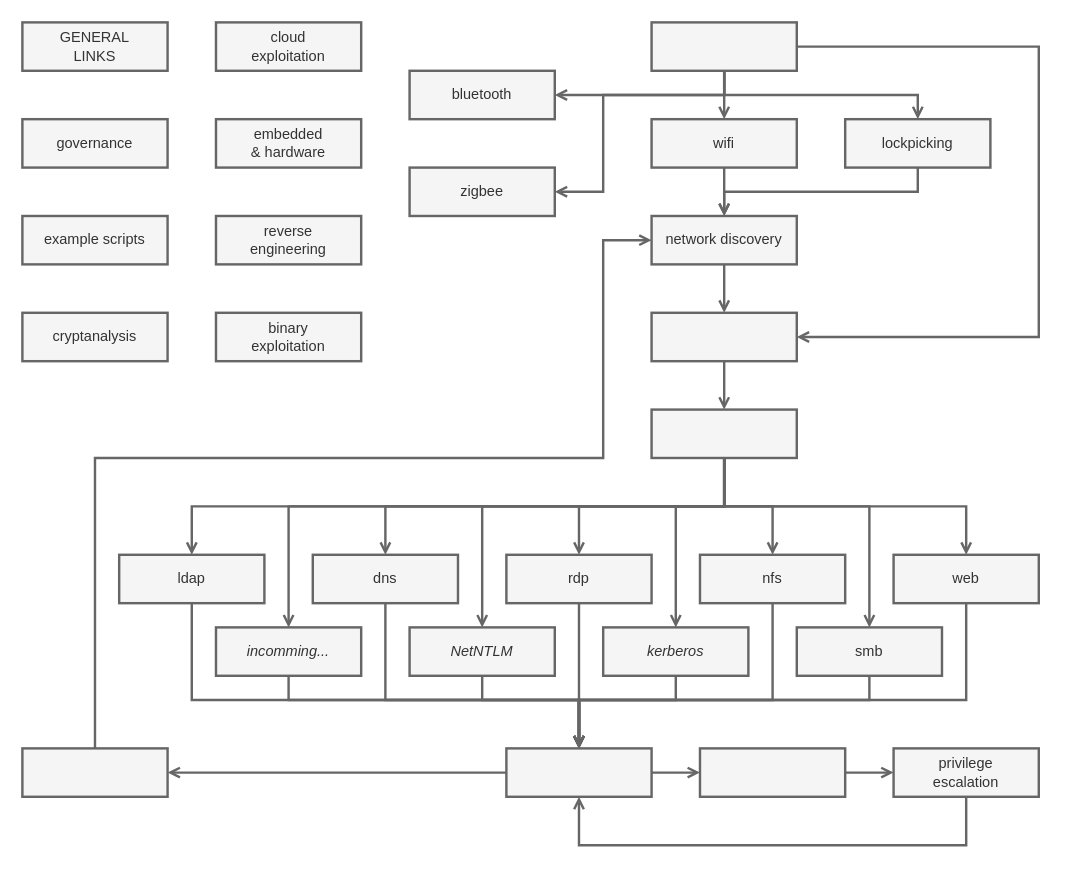
Image size: 1070x876. Some labels were removed from this diagram. Here are the shapes that lost their labels. From the top down, the centre of each, then its label:
At [723,46]: "osint".
At [723,336]: "service discovery".
At [723,433]: "network exploitation".
At [94,772]: "pivoting".
At [578,772]: "persistence".
At [772,772]: "evasion".
